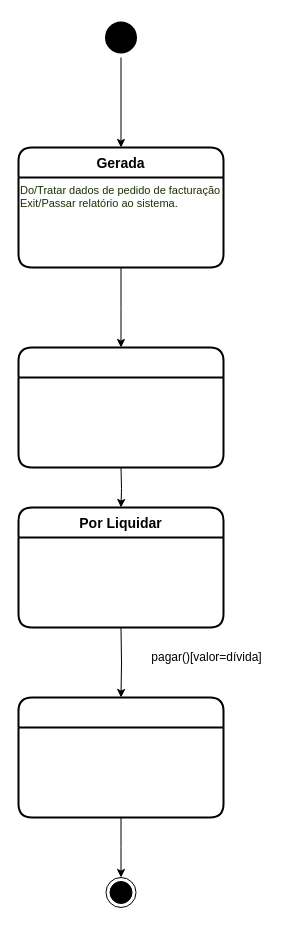
Some shapes in this 288 by 925 pixel diagram are drawn without their labels. Here are the shapes that lost their labels. From the top down, the centre of each, then its label:
point 120,407: Emitida
point 120,757: Paga
